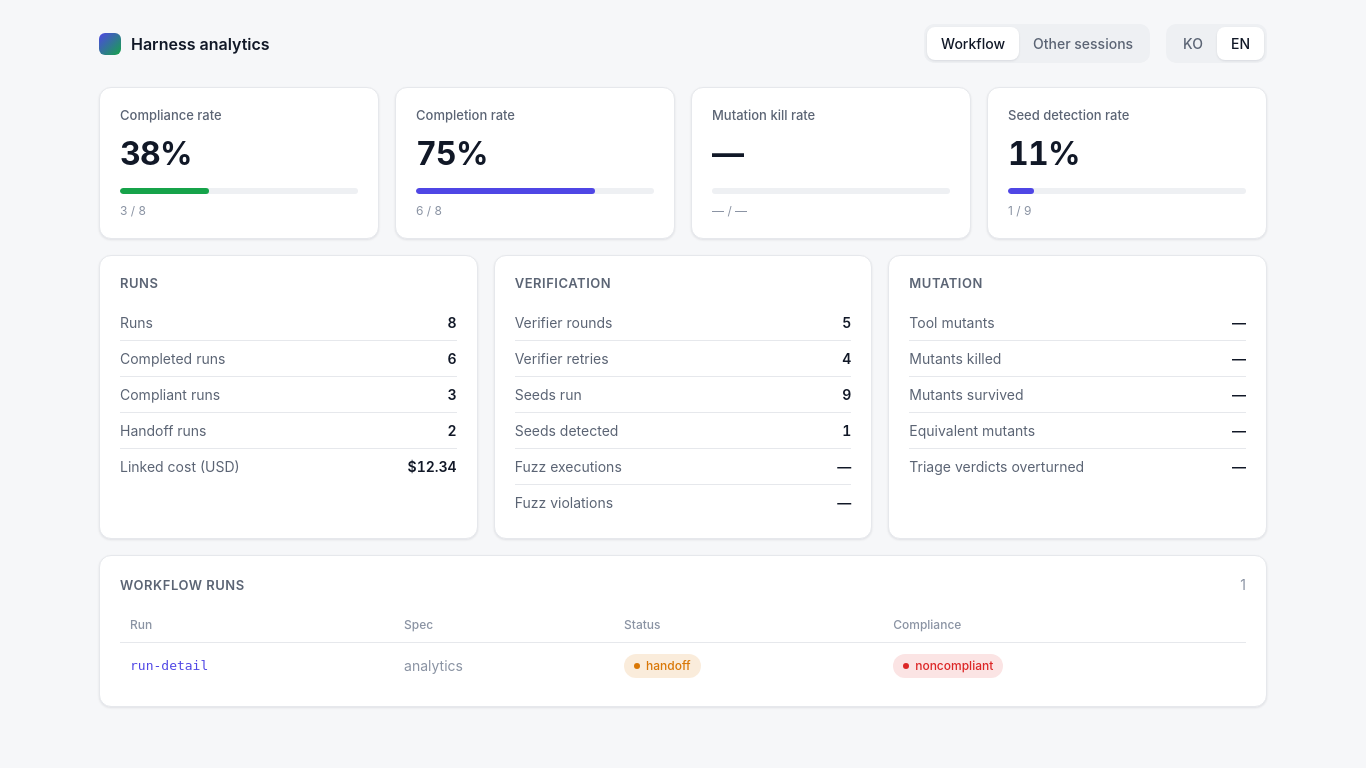
Test: spec v2 U2/F7/Q3 summary and detail field coverage › detail view labels spec_version, every compliance reason, run counters, and run cost
Click the link "run-detail" at [169, 666], box [130,658,208,673]
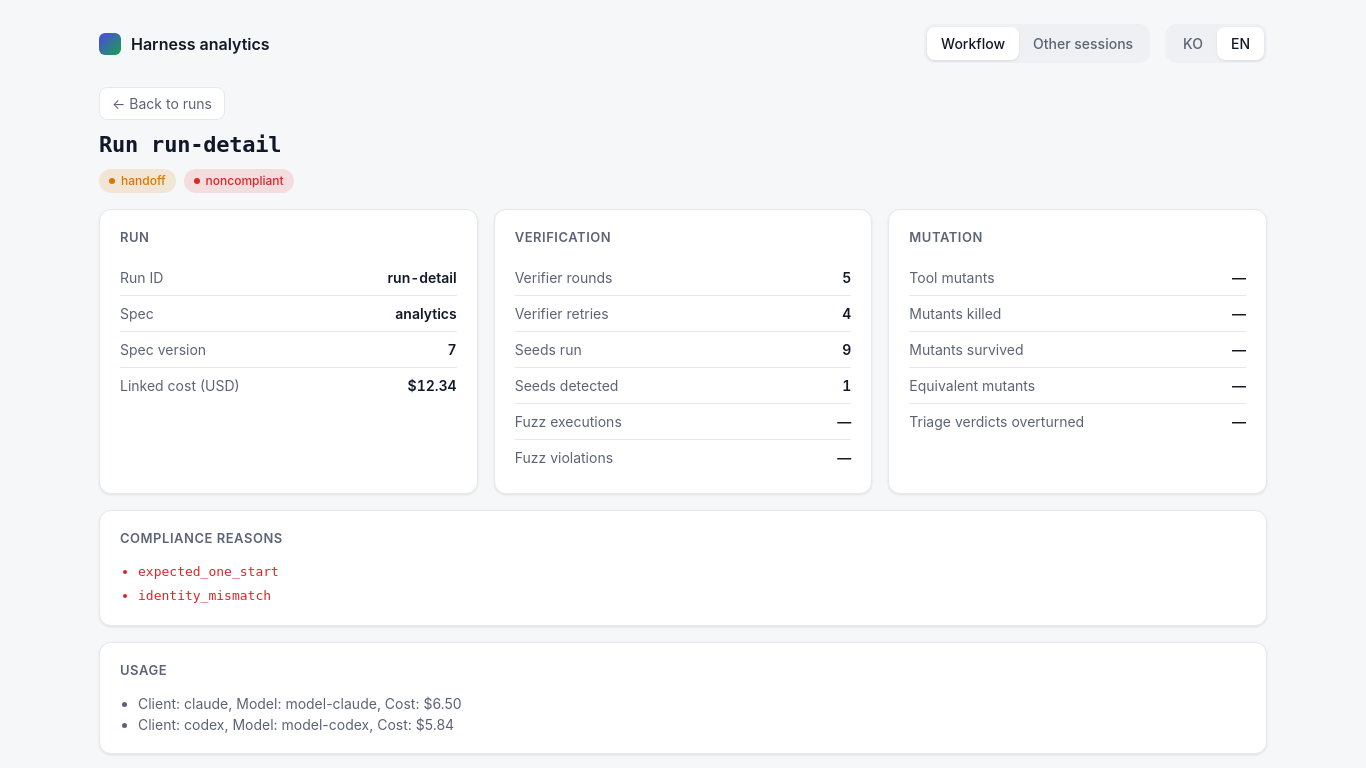
Result: the text "Spec version" is shown at [120,338,206,360]
Result: the list item "expected_one_start" is shown at [138,564,279,579]
Result: the list item "identity_mismatch" is shown at [138,588,271,602]
